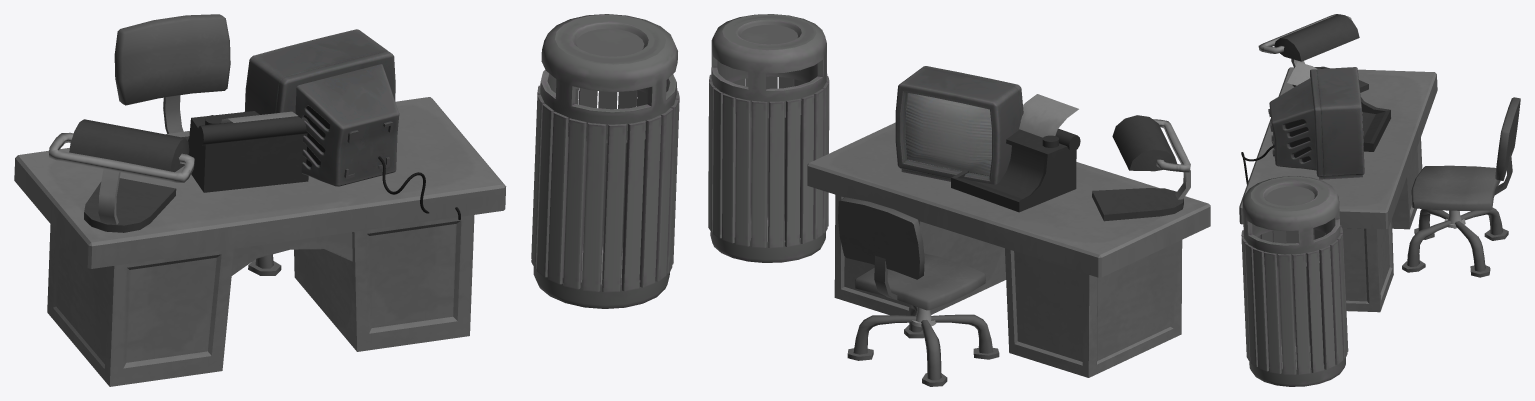
File: Desk2.fbx
3 renders of one model, left to right at view 1: azimuth 30°, elevation 25°; view 2: azimuth 150°, elevation 25°; view 3: azimuth 270°, elevation 25°, orthographic. The views are drawn at different scales.
Visible parts, largest first — view 1: Desk, desk12, desk10, thrashCanPart20, OfficeChair (2), tvBottom, tvScreen (4), typeMachineBase1, deskLamp4, thrashCanPart14, thrashCanPart13, thrashCanPart12 (+13 smaller); view 2: Desk, desk12, OfficeChair (2), tvScreen (4), thrashCanPart20, desk10, typeMachineBase1, deskLamp4, deskLampBase, thrashCanPart7, thrashCanPart6, thrashCanPart5 (+10 smaller); view 3: Desk, OfficeChair (2), thrashCanPart20, tvScreen (4), desk10, tvBottom, deskLamp4, thrashCanPart, wood, thrashCanPart1, thrashCanPart19, thrashCanPart2 (+12 smaller).
Boxes of the visible parts, box(x1,y1,x2,y2) form: Desk: box(14, 97, 506, 268); desk12: box(47, 224, 234, 386); desk10: box(294, 215, 474, 351); thrashCanPart20: box(540, 14, 677, 143); OfficeChair (2): box(114, 14, 281, 275); tvBottom: box(295, 64, 399, 186); tvScreen (4): box(244, 29, 395, 118); typeMachineBase1: box(182, 111, 308, 192); deskLamp4: box(69, 119, 189, 172); thrashCanPart14: box(602, 123, 626, 292); thrashCanPart13: box(581, 122, 606, 291); thrashCanPart12: box(563, 118, 586, 289); Desk: box(807, 122, 1210, 277); desk12: box(1005, 240, 1182, 377); OfficeChair (2): box(838, 197, 999, 386); tvScreen (4): box(895, 66, 1023, 184); thrashCanPart20: box(711, 14, 826, 118); desk10: box(834, 194, 1005, 315); typeMachineBase1: box(951, 129, 1076, 212); deskLamp4: box(1112, 115, 1177, 171); deskLampBase: box(1092, 188, 1183, 221); thrashCanPart7: box(768, 101, 784, 248); thrashCanPart6: box(751, 100, 767, 247); thrashCanPart5: box(735, 98, 751, 246); Desk: box(1239, 67, 1437, 229); OfficeChair (2): box(1402, 97, 1520, 277); thrashCanPart20: box(1242, 176, 1340, 267); tvScreen (4): box(1310, 67, 1364, 179); desk10: box(1272, 219, 1393, 312); tvBottom: box(1269, 78, 1316, 170); deskLamp4: box(1274, 14, 1359, 61); thrashCanPart: box(1292, 253, 1310, 374); wood: box(1278, 254, 1296, 374); thrashCanPart1: box(1306, 250, 1323, 372); thrashCanPart19: box(1264, 251, 1281, 373); thrashCanPart2: box(1319, 245, 1335, 369).
Size of the model in its own units: 892 by 395 by 515.
3 materials, 3 textured.
